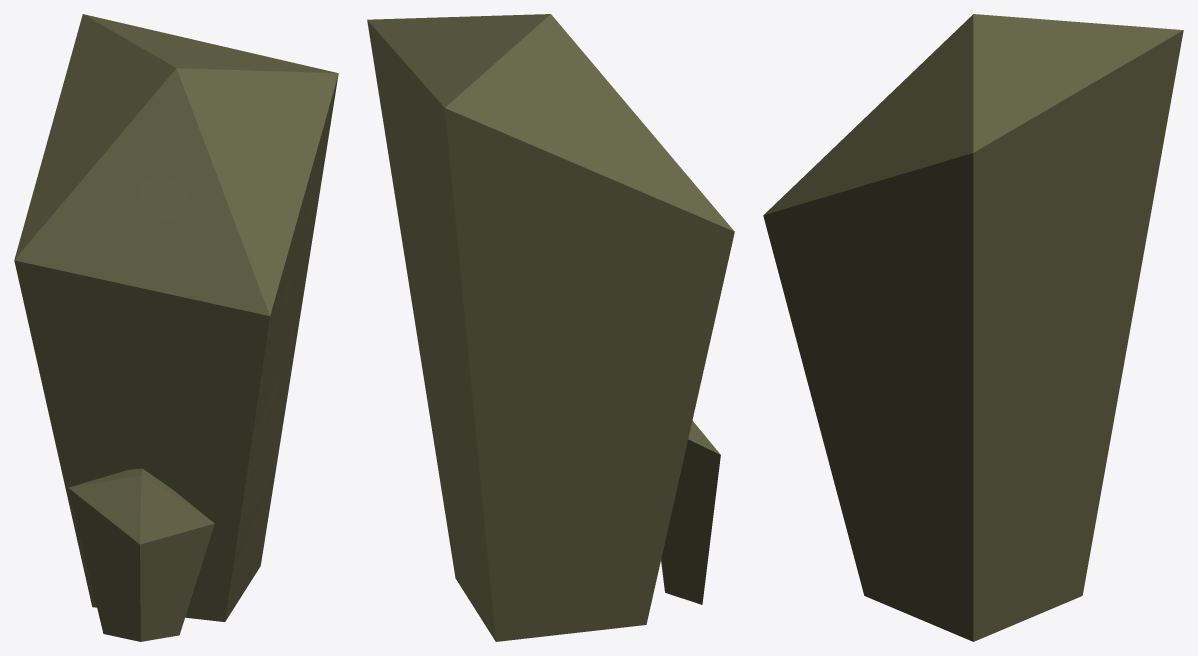
3 renders of one model, left to right at view 1: azimuth 30°, elevation 25°; view 2: azimuth 150°, elevation 25°; view 3: azimuth 270°, elevation 25°, orthographic. The views are drawn at different scales.
Parts seen in each view (by area): view 1: 12; view 2: 12; view 3: 12.
Part boxes in pixels (x1,y1,x2,y2): 12: (14,14,338,641); 12: (367,14,734,641); 12: (763,14,1183,641).
Size of the model in its own units: 60.24 by 91.97 by 60.24.
Materials: 1 (1 with a texture image).
